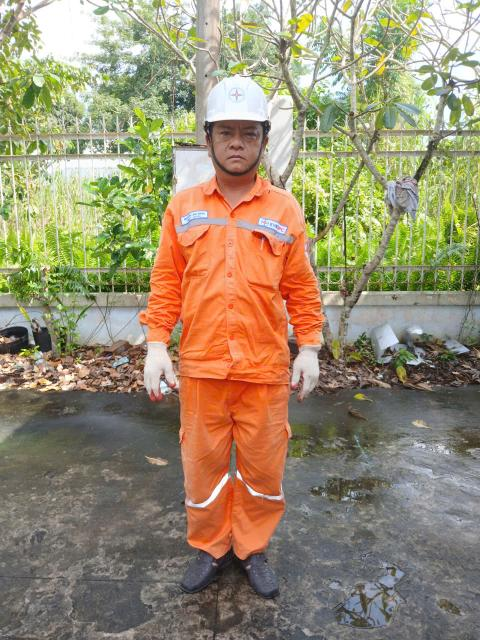gloves: (136, 334, 187, 413), (281, 345, 329, 406)
helmet: (197, 58, 286, 139)
shoes: (168, 540, 232, 598), (231, 543, 288, 602)
